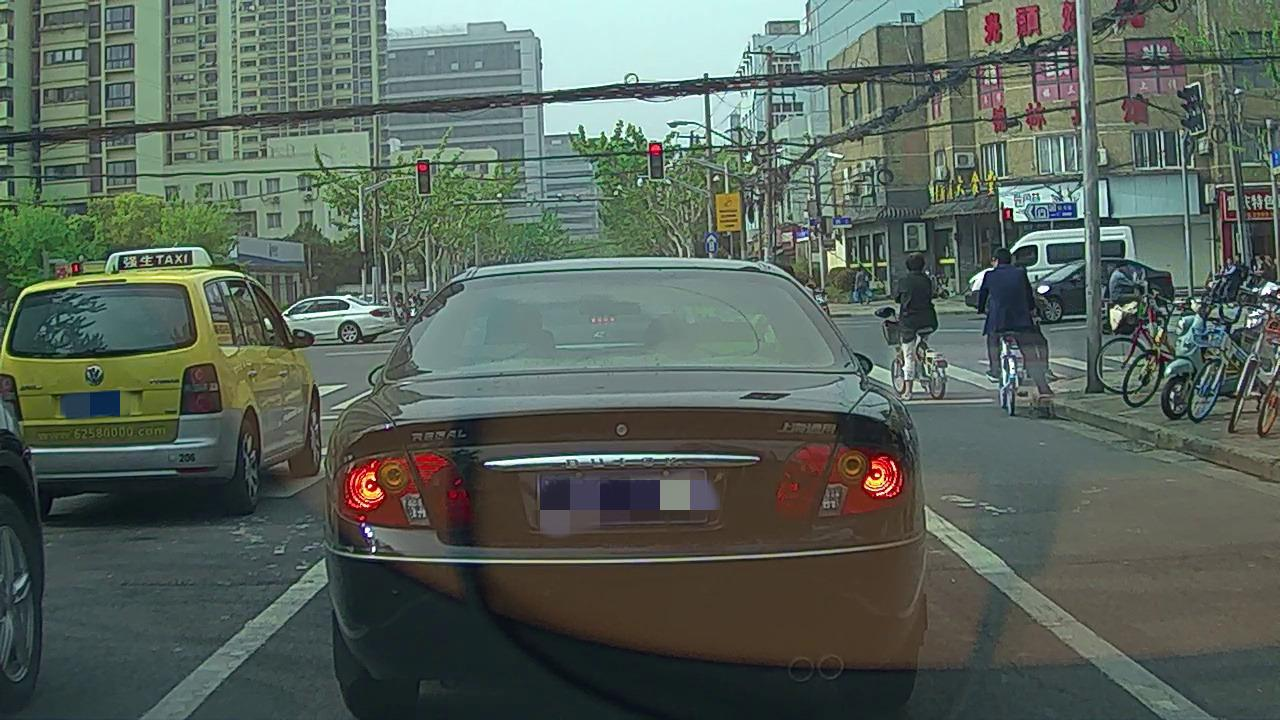traffic_light: (648, 142, 664, 180), (417, 158, 431, 195)
